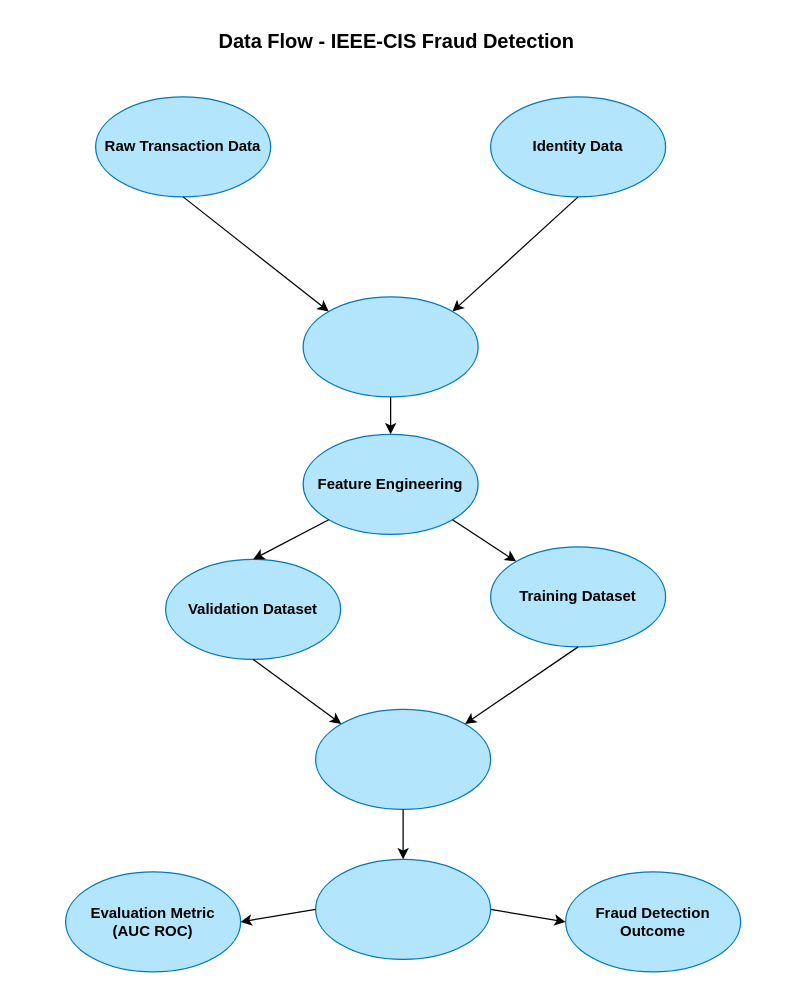
The diagram is 793 pixels wide and 994 high, and some of its shapes have lost their labels. Each missing label, with the box of its shape:
Machine Learning Models (XGBoost, LGBM, NN): (314, 708, 491, 809)
Predictions: (314, 858, 491, 959)
Preprocessing (Data Cleaning): (302, 296, 478, 397)
